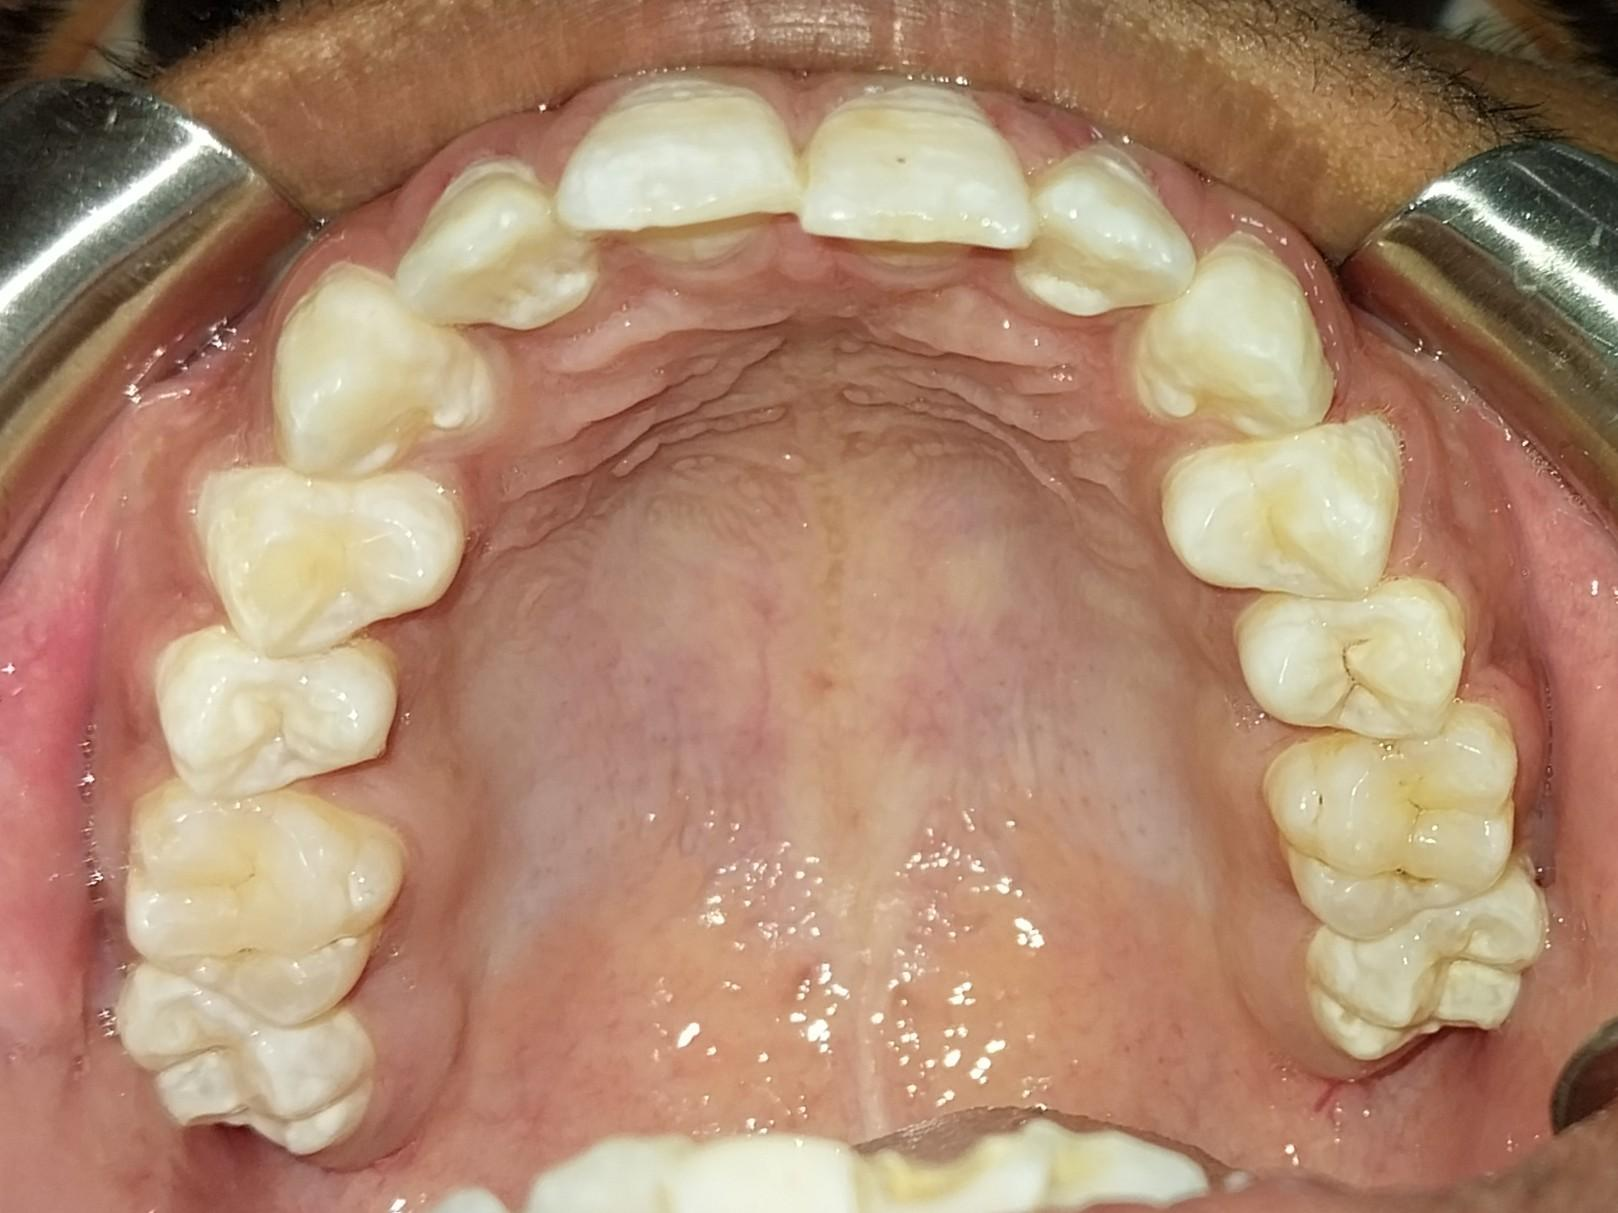D: (1235, 588, 1471, 738)
